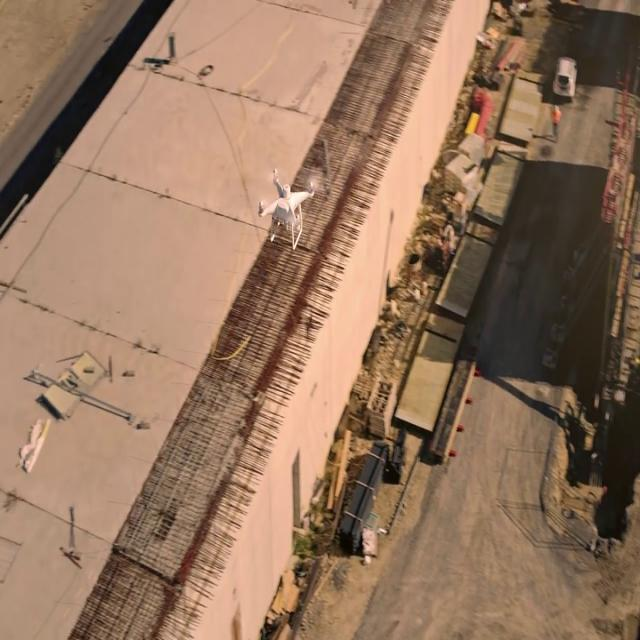drone: (253, 164, 319, 250)
